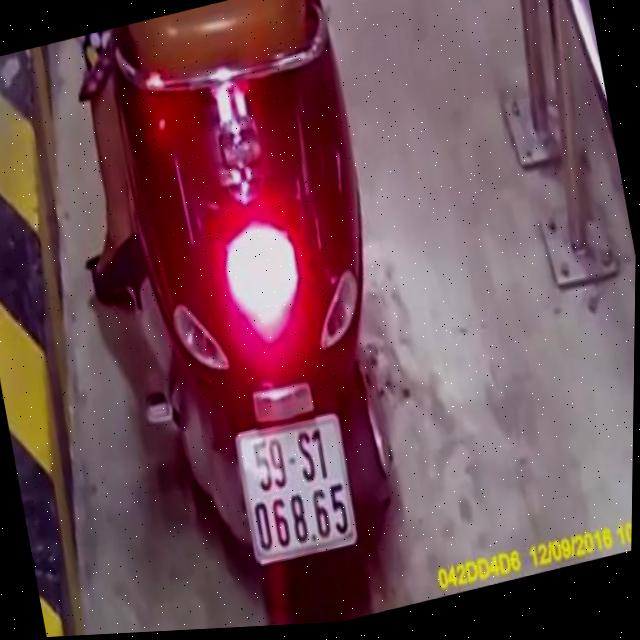motorcycle: (86, 0, 444, 625)
plate: (222, 399, 375, 573)
